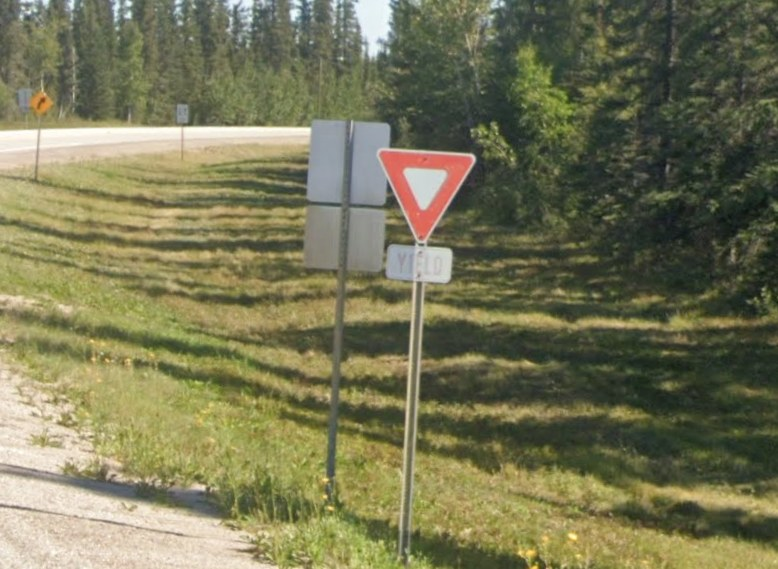sign_yield: (375, 145, 476, 244)
